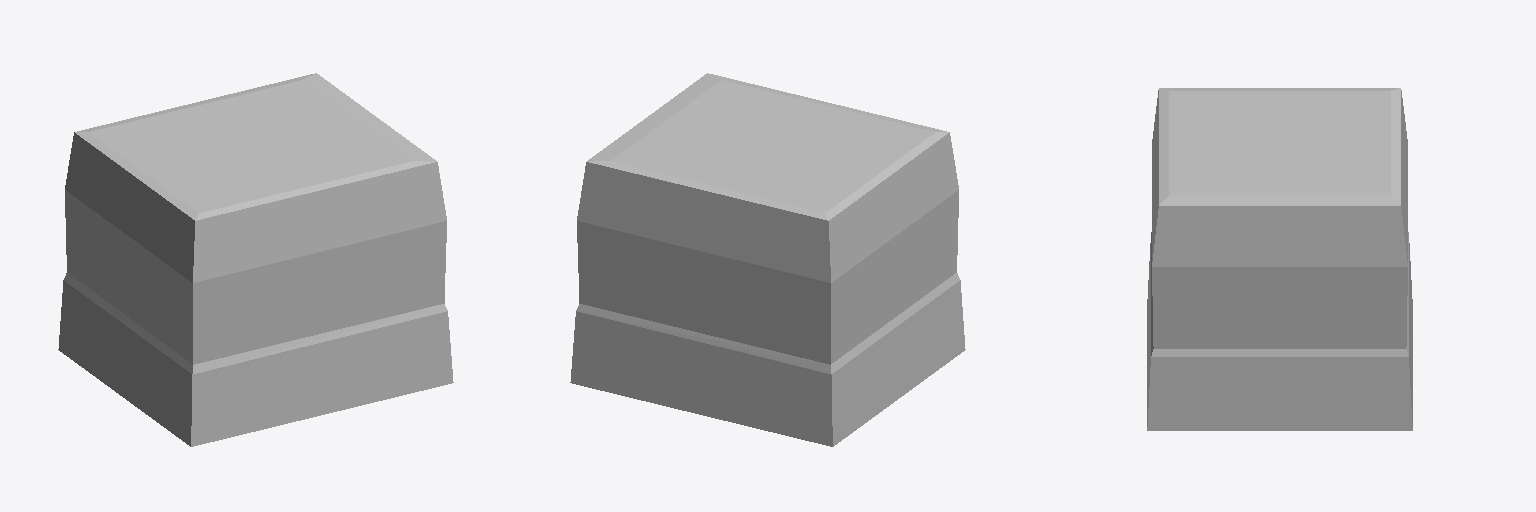
Rendered from tripleFat.obj.
3 views of the same model, side by side, from view 1: azimuth 30°, elevation 25°; view 2: azimuth 150°, elevation 25°; view 3: azimuth 270°, elevation 25° (orthographic).
Bounding box in the file's own units: 1.25 × 1.01 × 1.09.